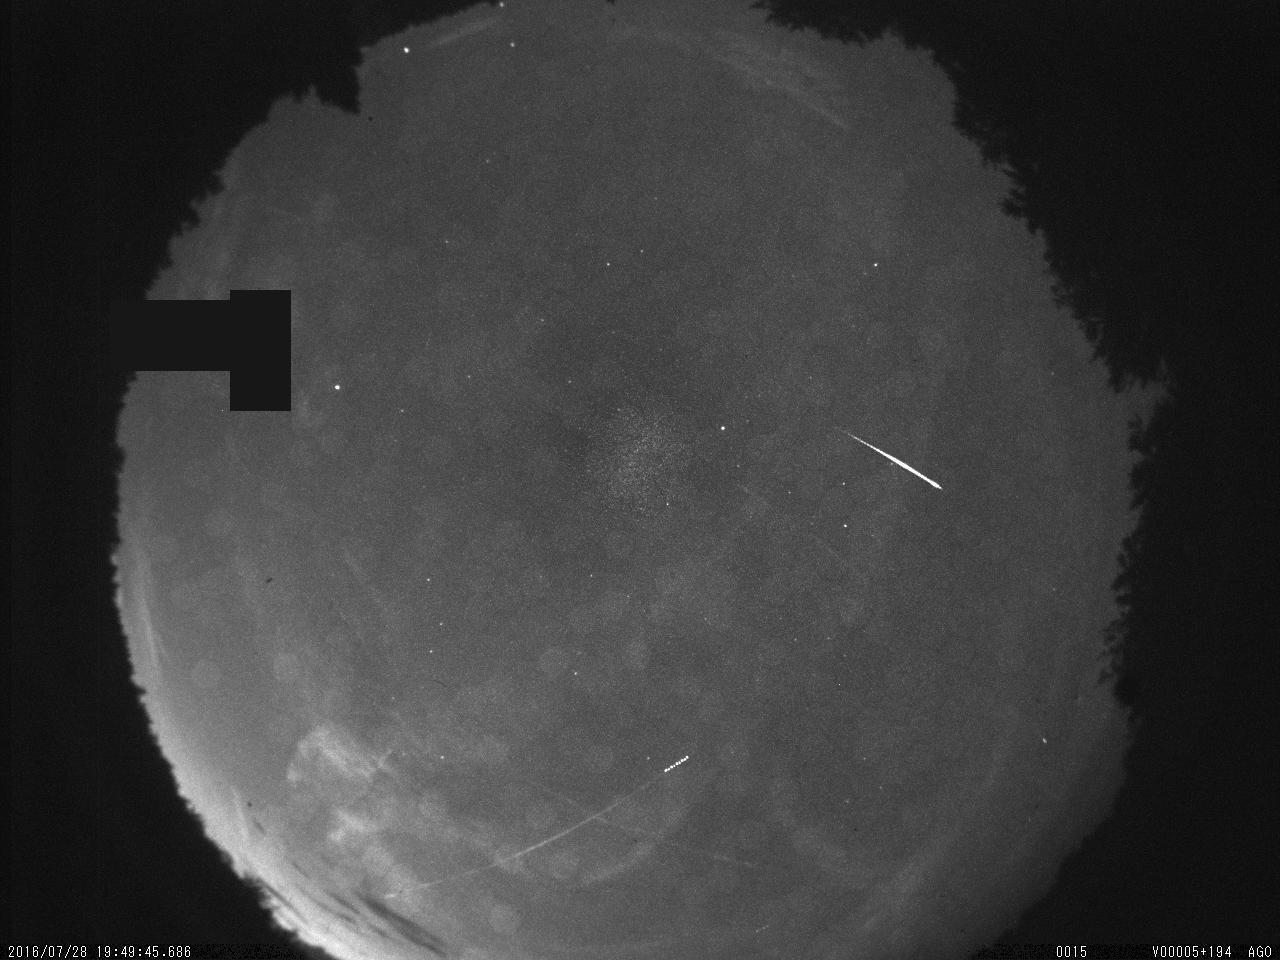meteor: (830, 416, 952, 500)
satelite: (655, 745, 698, 781)
